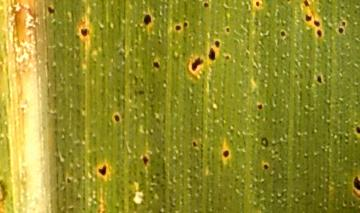tarspot: (188, 55, 204, 71), (96, 162, 111, 179), (140, 11, 154, 26), (207, 46, 218, 64), (259, 134, 270, 150), (220, 148, 233, 161), (112, 111, 122, 127), (352, 174, 360, 194), (149, 59, 162, 71), (253, 101, 266, 113), (277, 27, 289, 40), (79, 26, 91, 38), (222, 23, 233, 36), (314, 74, 325, 86), (140, 154, 150, 167), (46, 5, 57, 16), (336, 25, 347, 36), (260, 162, 272, 172), (190, 138, 200, 150), (200, 1, 213, 10), (351, 124, 360, 137), (173, 23, 183, 34), (302, 13, 313, 23), (312, 19, 322, 29), (316, 27, 324, 39), (300, 1, 312, 8), (214, 38, 222, 48), (254, 1, 262, 9)
